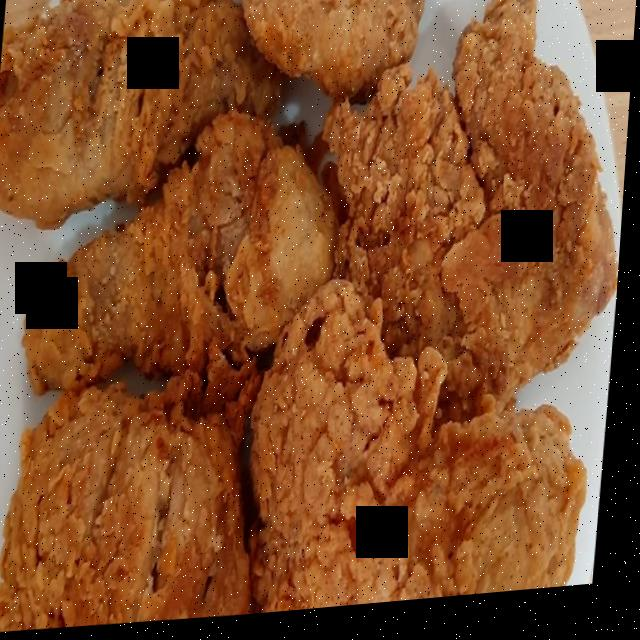Frango: (242, 267, 609, 621), (25, 103, 341, 405), (0, 379, 259, 637)
